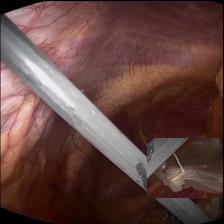Specimen Bag: (147, 137, 224, 197)
